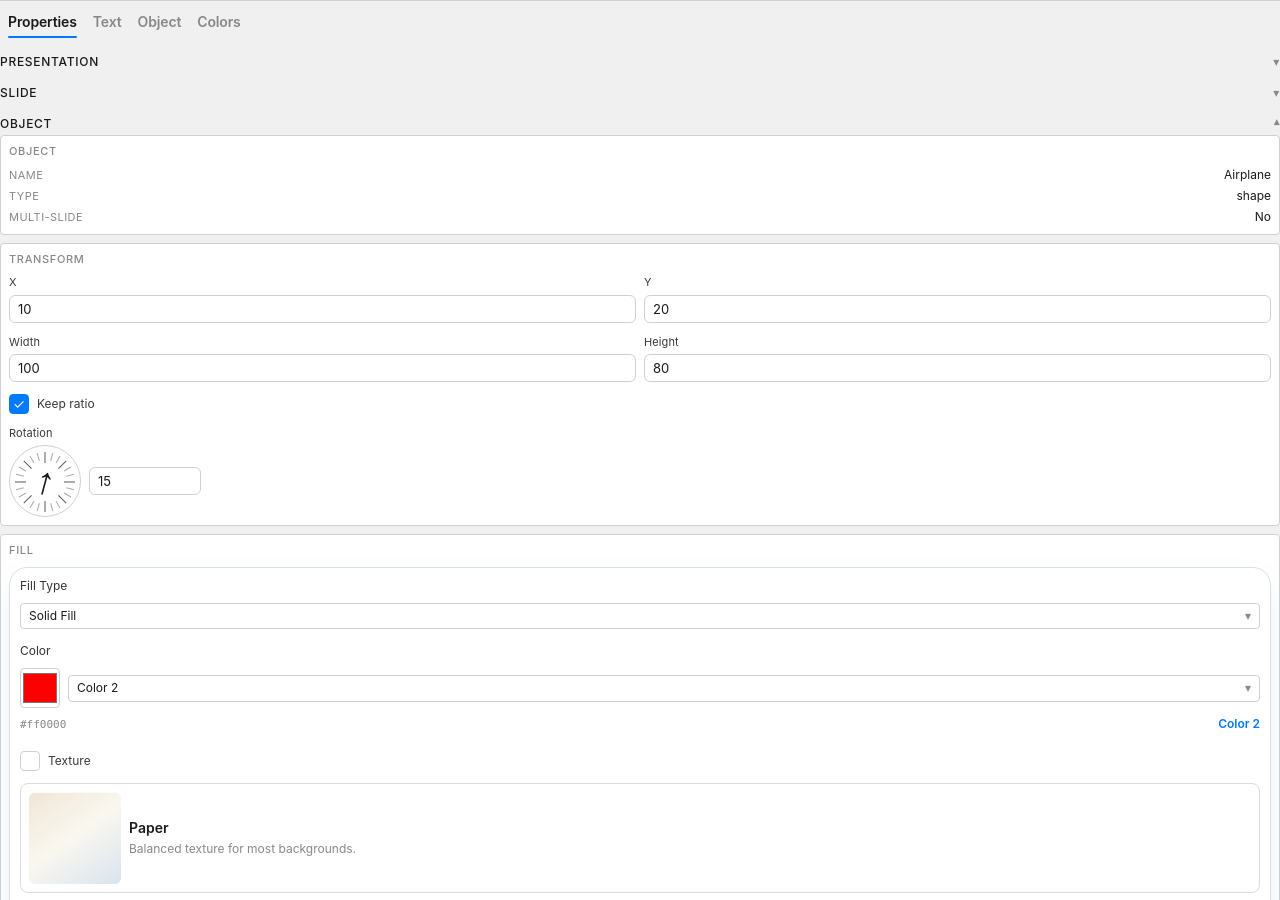
it: PropertiesPanel › shows derived color constants in the colors tab
The image size is (1280, 900).
Step 1. Click the tab "Colors" → (219, 24), box [189, 5, 249, 42]
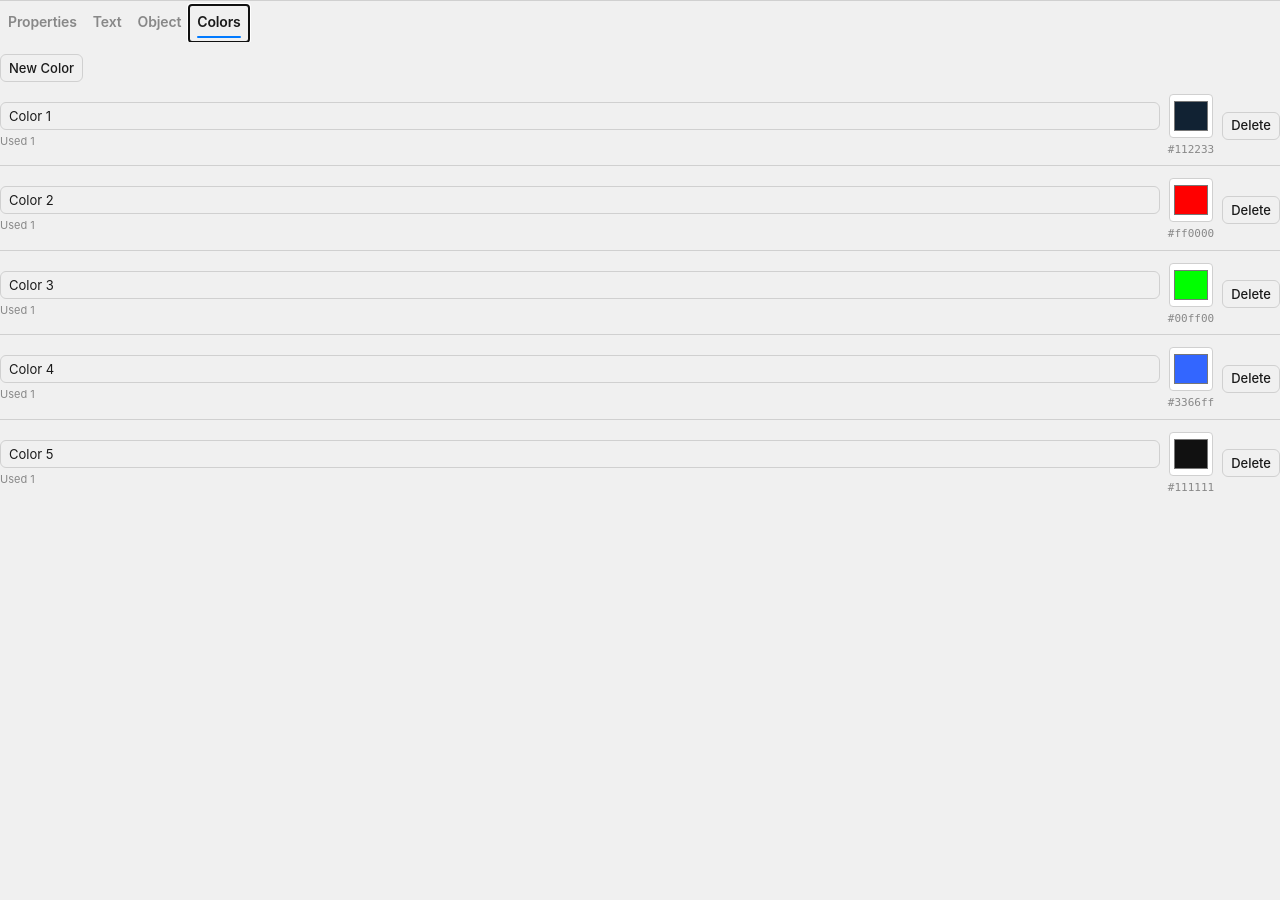
Result: the colour field showing "#ff0000" is shown at [1169, 178, 1213, 222]
